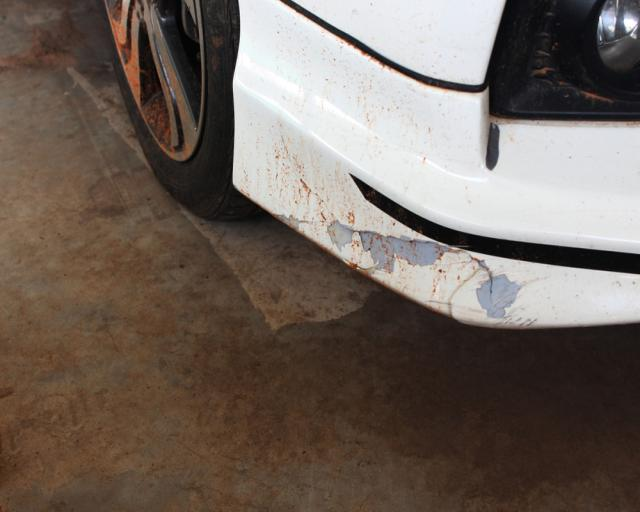scratch: (274, 210, 536, 327)
